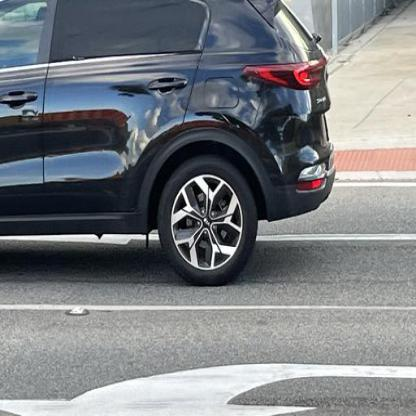Tire: (158, 154, 258, 287)
